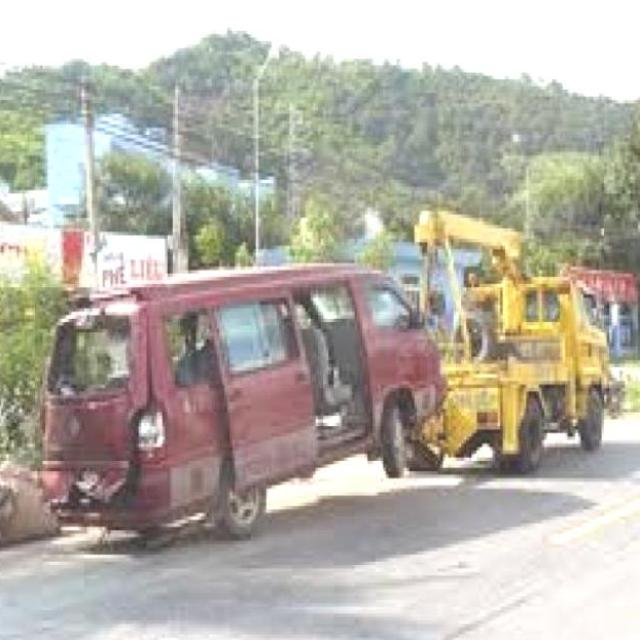accident: (4, 266, 469, 551)
